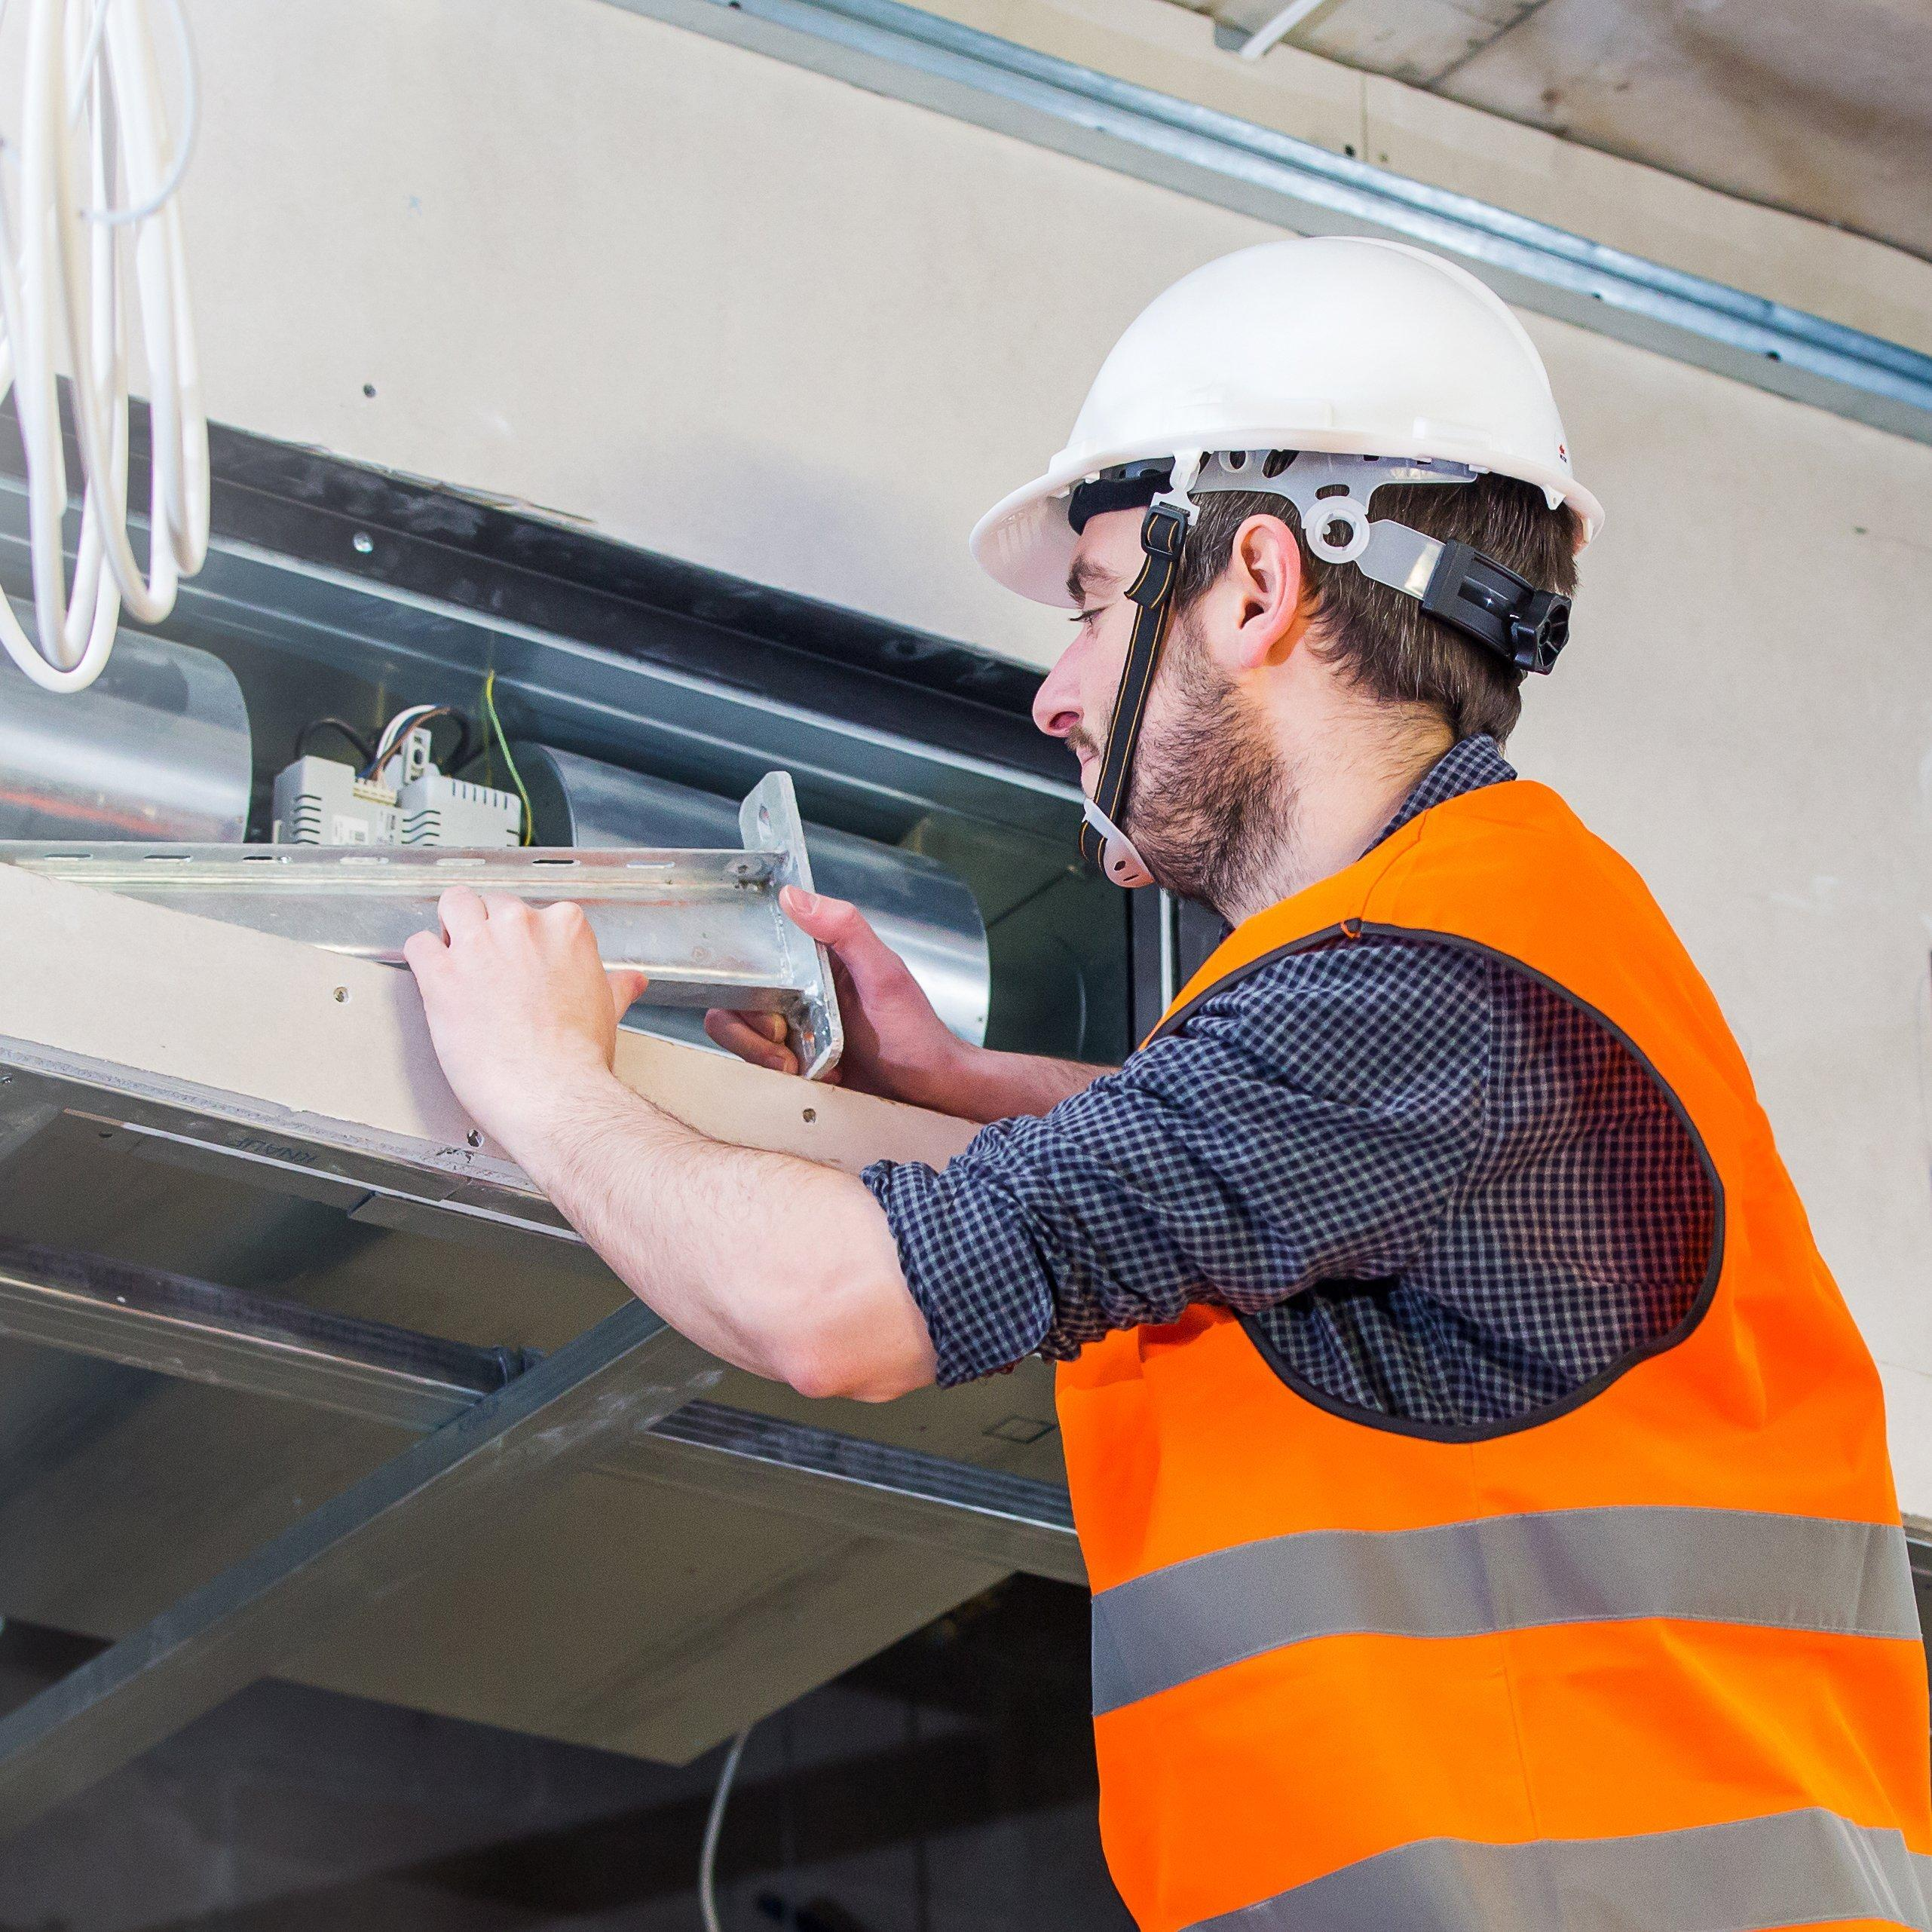helmet: (959, 235, 1605, 602)
